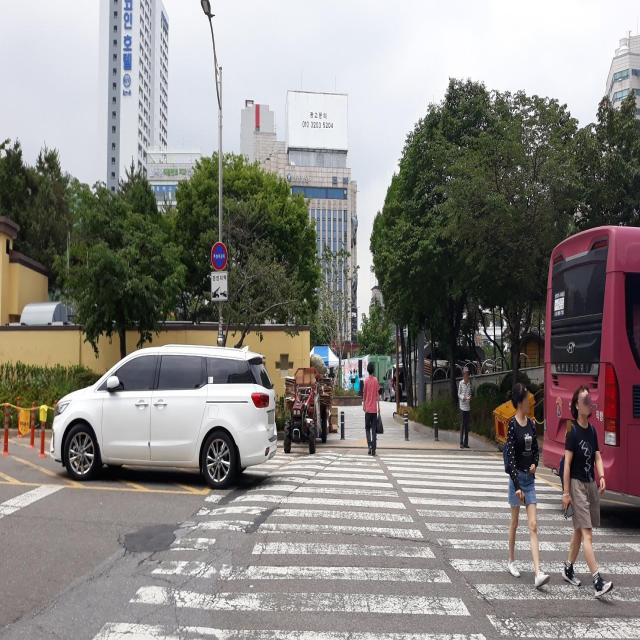횡단보도: (90, 444, 640, 640)
